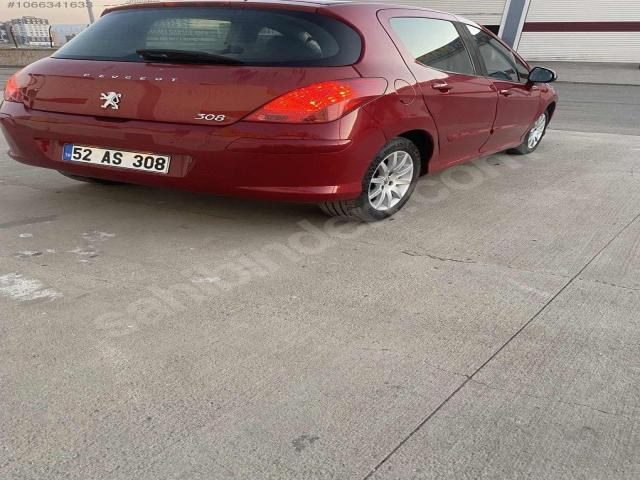plaka: (61, 144, 171, 174)
